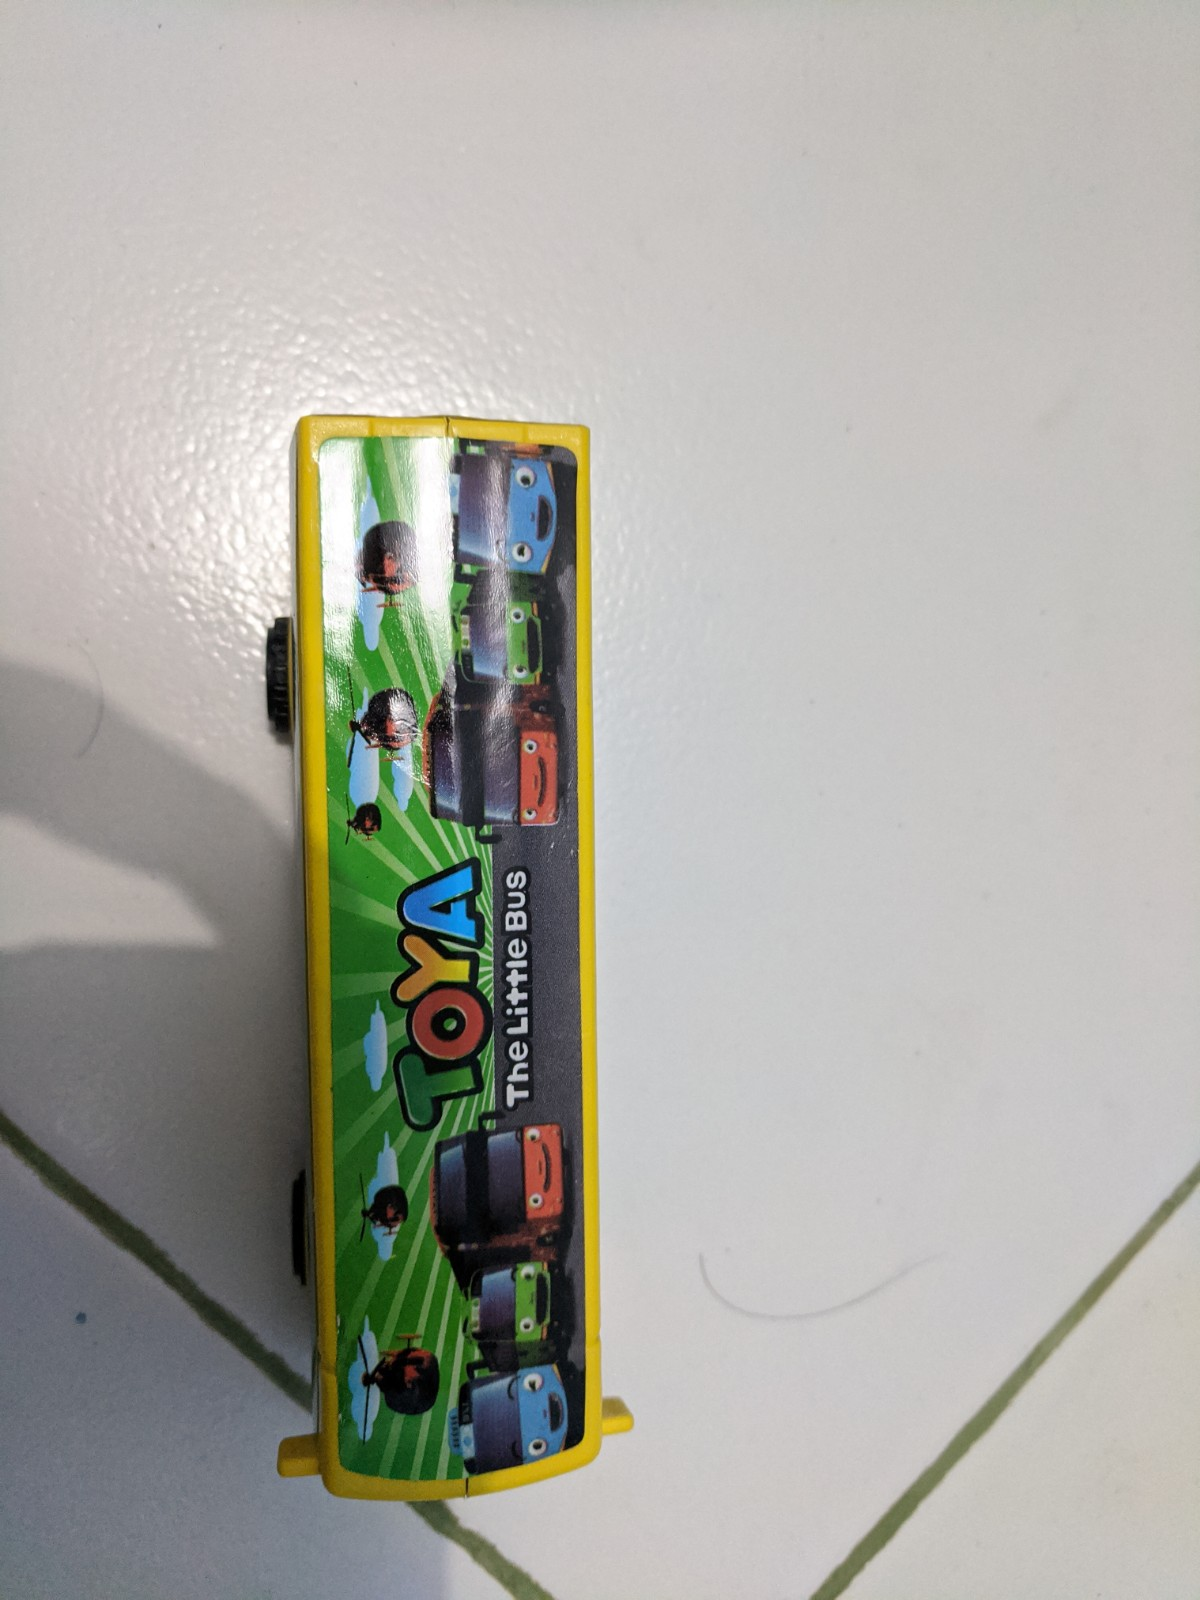bus: (295, 404, 618, 1529)
